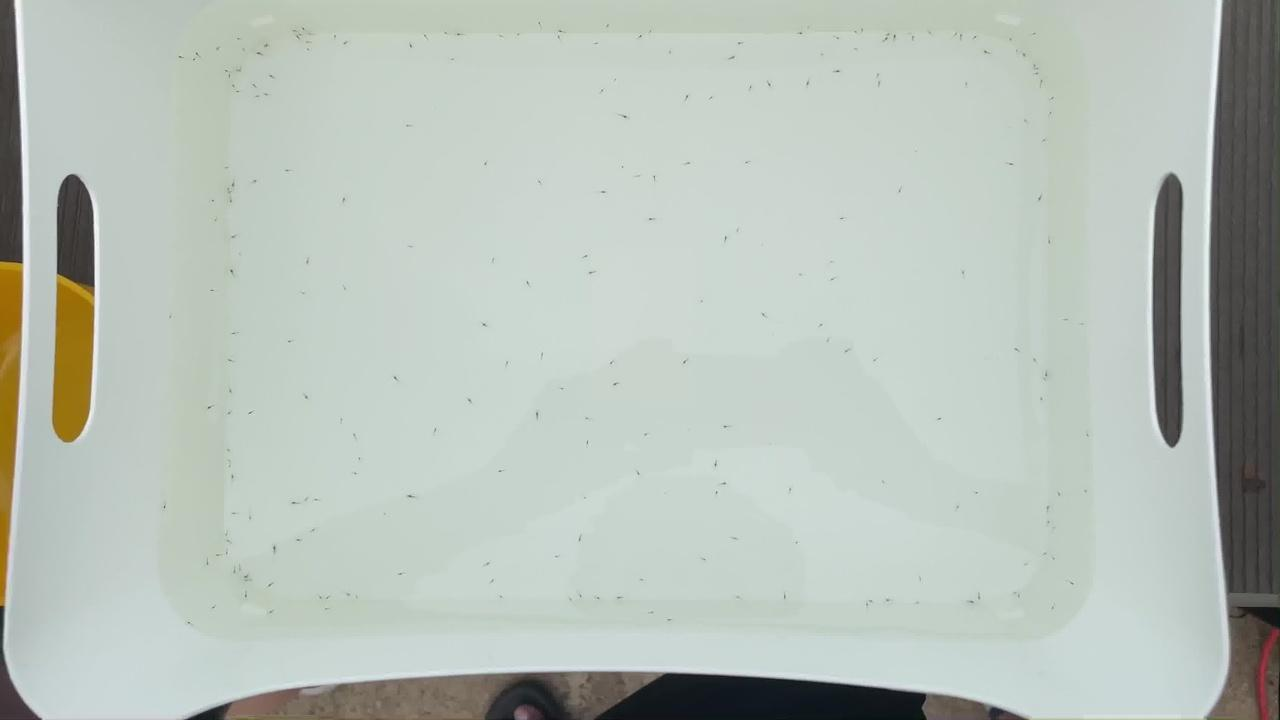shrimp: (1046, 606, 1059, 614), (973, 594, 986, 602), (1040, 550, 1053, 558), (1080, 484, 1093, 492), (954, 506, 967, 514), (882, 594, 895, 602), (879, 478, 892, 486), (1035, 390, 1048, 398), (1060, 318, 1073, 326), (1034, 79, 1047, 87), (977, 46, 990, 54), (888, 30, 901, 38), (882, 30, 895, 38), (964, 79, 977, 87), (827, 274, 840, 282), (779, 595, 792, 603), (730, 595, 743, 603), (790, 539, 803, 547), (748, 418, 761, 426), (718, 235, 731, 243), (732, 229, 745, 237), (644, 24, 657, 32), (420, 30, 433, 38), (650, 174, 663, 182), (599, 190, 612, 198), (371, 163, 384, 171), (208, 196, 221, 204), (207, 284, 220, 292), (166, 312, 179, 320), (219, 162, 232, 170), (305, 30, 318, 38), (295, 30, 308, 38), (294, 35, 307, 43), (260, 41, 273, 49), (218, 63, 231, 71), (261, 91, 274, 99), (249, 80, 262, 88), (582, 412, 595, 420), (351, 429, 364, 437), (236, 561, 249, 569), (287, 501, 300, 509), (321, 595, 334, 603), (344, 589, 357, 597), (637, 578, 650, 586), (646, 611, 659, 619), (1011, 346, 1023, 354), (1006, 163, 1018, 171), (1017, 52, 1029, 60), (839, 346, 851, 354), (712, 490, 724, 498), (712, 462, 724, 470), (635, 35, 647, 43), (535, 179, 547, 187), (634, 467, 646, 475), (225, 357, 237, 365), (313, 595, 325, 603), (1069, 582, 1082, 589), (1015, 591, 1028, 598), (1009, 593, 1022, 600), (964, 598, 977, 605), (1020, 563, 1033, 570), (1046, 556, 1059, 563), (1046, 525, 1059, 532), (1040, 520, 1053, 527), (1042, 508, 1055, 515), (1083, 432, 1096, 439), (971, 491, 984, 498), (916, 575, 929, 582), (914, 601, 927, 608), (868, 598, 881, 605), (863, 603, 876, 610), (935, 415, 948, 422), (1039, 377, 1052, 384), (1043, 370, 1056, 377), (1028, 358, 1041, 365), (1075, 322, 1088, 329), (959, 268, 972, 275), (1033, 192, 1046, 199), (1037, 136, 1050, 143), (1019, 123, 1032, 130), (1045, 96, 1058, 103), (1029, 72, 1042, 79), (1027, 63, 1040, 70), (1027, 29, 1040, 36), (1004, 35, 1017, 42), (966, 34, 979, 41), (960, 33, 973, 40), (950, 33, 963, 40), (925, 29, 938, 36), (908, 35, 921, 42), (880, 36, 893, 43), (855, 25, 868, 32), (832, 34, 845, 41), (805, 26, 818, 33), (791, 28, 804, 35), (803, 79, 816, 86), (832, 68, 845, 75), (815, 53, 828, 60), (851, 46, 864, 53), (871, 78, 884, 85), (836, 215, 849, 222), (825, 260, 838, 267), (794, 271, 807, 278), (815, 320, 828, 327), (823, 335, 836, 342), (869, 360, 882, 367), (696, 557, 709, 564), (727, 532, 740, 539), (784, 489, 797, 496), (719, 479, 732, 486), (722, 422, 735, 429), (680, 358, 693, 365), (758, 312, 771, 319), (742, 159, 755, 166), (745, 82, 758, 89), (763, 79, 776, 86), (725, 53, 738, 60), (705, 92, 718, 99), (665, 49, 678, 56), (603, 23, 616, 30), (593, 38, 606, 45), (556, 29, 569, 36), (556, 36, 569, 43), (515, 30, 528, 37), (497, 32, 510, 39), (456, 30, 469, 37), (442, 30, 455, 37), (447, 50, 460, 57), (598, 89, 611, 96), (620, 113, 633, 120), (617, 161, 630, 168), (632, 173, 645, 180), (648, 216, 661, 223), (480, 160, 493, 167), (405, 120, 418, 127), (286, 166, 299, 173), (251, 175, 264, 182), (228, 181, 241, 188), (224, 184, 237, 191), (227, 194, 240, 201), (228, 233, 241, 240), (227, 271, 240, 278), (342, 38, 355, 45), (330, 30, 343, 37), (304, 40, 317, 47), (299, 25, 312, 32), (290, 26, 303, 33), (237, 42, 250, 49), (237, 36, 250, 43), (214, 44, 227, 51), (195, 51, 208, 58), (175, 51, 188, 58), (222, 71, 235, 78), (234, 64, 247, 71), (226, 79, 239, 86), (231, 87, 244, 94), (251, 94, 264, 101), (266, 71, 279, 78), (300, 288, 313, 295), (304, 257, 317, 264), (338, 283, 351, 290), (408, 243, 421, 250), (489, 255, 502, 262), (522, 276, 535, 283), (579, 252, 592, 259), (585, 268, 598, 275), (606, 361, 619, 368), (610, 378, 623, 385), (581, 437, 594, 444), (556, 381, 569, 388), (529, 411, 542, 418), (538, 350, 551, 357), (503, 358, 516, 365), (480, 320, 493, 327), (390, 374, 403, 381), (353, 453, 366, 460), (351, 468, 364, 475), (337, 415, 350, 422), (301, 391, 314, 398), (227, 332, 240, 339), (221, 385, 234, 392), (205, 399, 218, 406), (224, 449, 237, 456), (226, 458, 239, 465), (225, 469, 238, 476), (157, 507, 170, 514), (230, 504, 243, 511), (244, 515, 257, 522), (221, 526, 234, 533), (222, 535, 235, 542), (222, 546, 235, 553), (200, 558, 213, 565), (207, 604, 220, 611), (186, 622, 199, 629), (240, 594, 253, 601), (265, 608, 278, 615), (268, 580, 281, 587), (241, 572, 254, 579), (228, 566, 241, 573), (268, 546, 281, 553), (293, 537, 306, 544), (310, 524, 323, 531), (300, 497, 313, 504), (310, 496, 323, 503), (320, 606, 333, 613), (398, 568, 411, 575), (402, 491, 415, 498), (497, 471, 510, 478), (480, 560, 493, 567), (553, 556, 566, 563), (576, 537, 589, 544), (578, 496, 591, 503), (593, 597, 606, 604), (613, 593, 626, 600), (662, 617, 675, 624), (1055, 491, 1067, 498), (1045, 239, 1057, 246), (1045, 115, 1057, 122), (1033, 68, 1045, 75), (850, 27, 862, 34), (873, 67, 885, 74), (895, 189, 907, 196), (695, 295, 707, 302), (734, 40, 746, 47), (679, 93, 691, 100), (535, 22, 547, 29), (407, 42, 419, 49), (613, 76, 625, 83), (684, 161, 696, 168), (341, 196, 353, 203), (208, 215, 220, 222), (252, 49, 264, 56), (191, 55, 203, 62), (640, 428, 652, 435), (468, 397, 480, 404), (430, 425, 442, 432), (286, 337, 298, 344), (225, 411, 237, 418), (241, 411, 253, 418), (213, 548, 225, 555), (247, 577, 259, 584), (352, 592, 364, 599), (485, 575, 497, 582), (496, 592, 508, 599), (563, 597, 575, 604), (573, 591, 585, 598)
